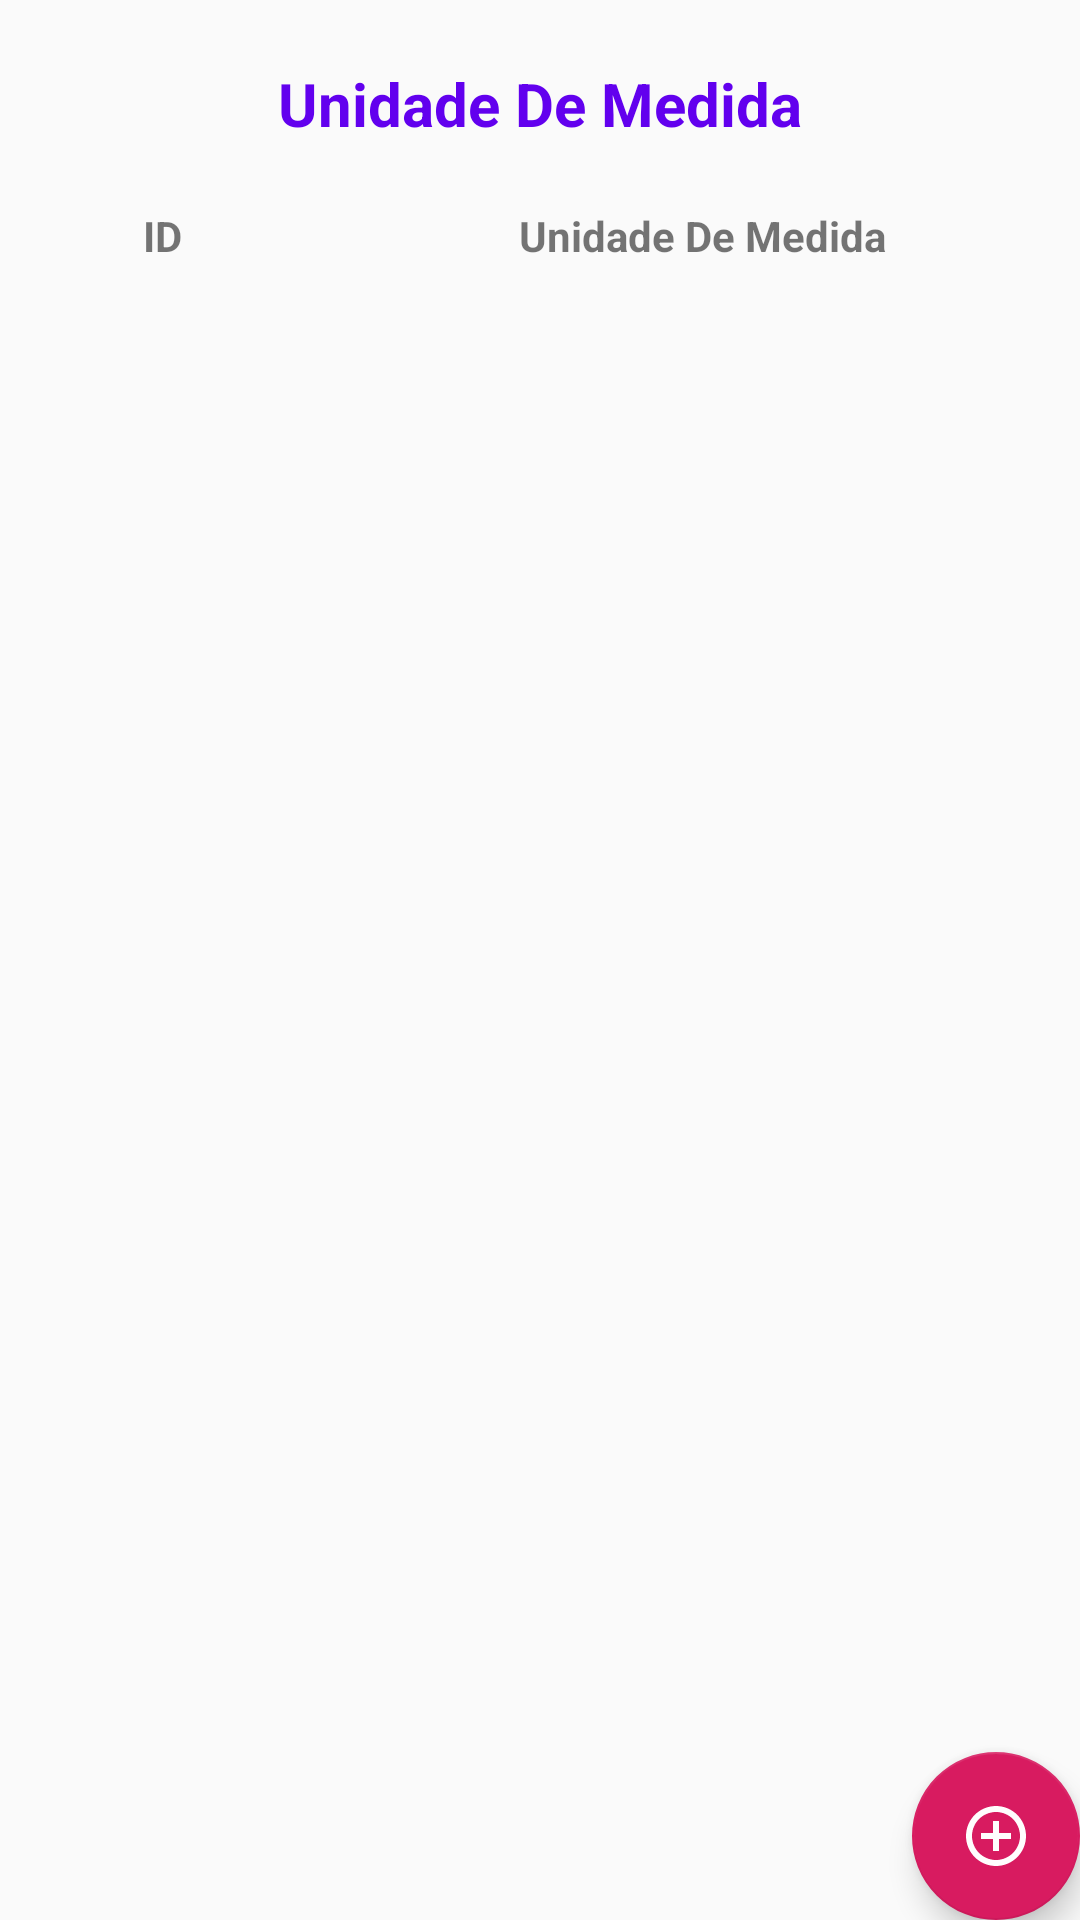

Screen size 1080 x 1920. Icon name, then its center in pixels as (x,y):
add circle: (996,1836)
